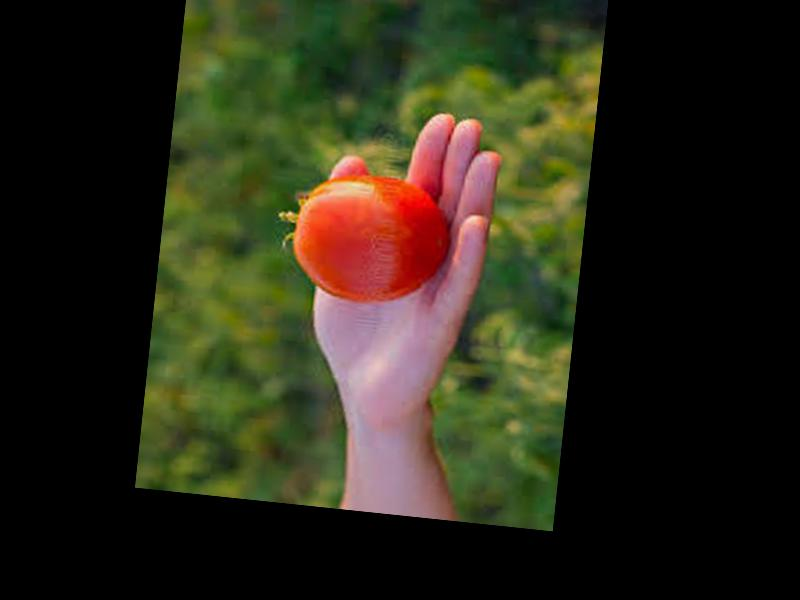Tomato: (289, 170, 457, 309)
